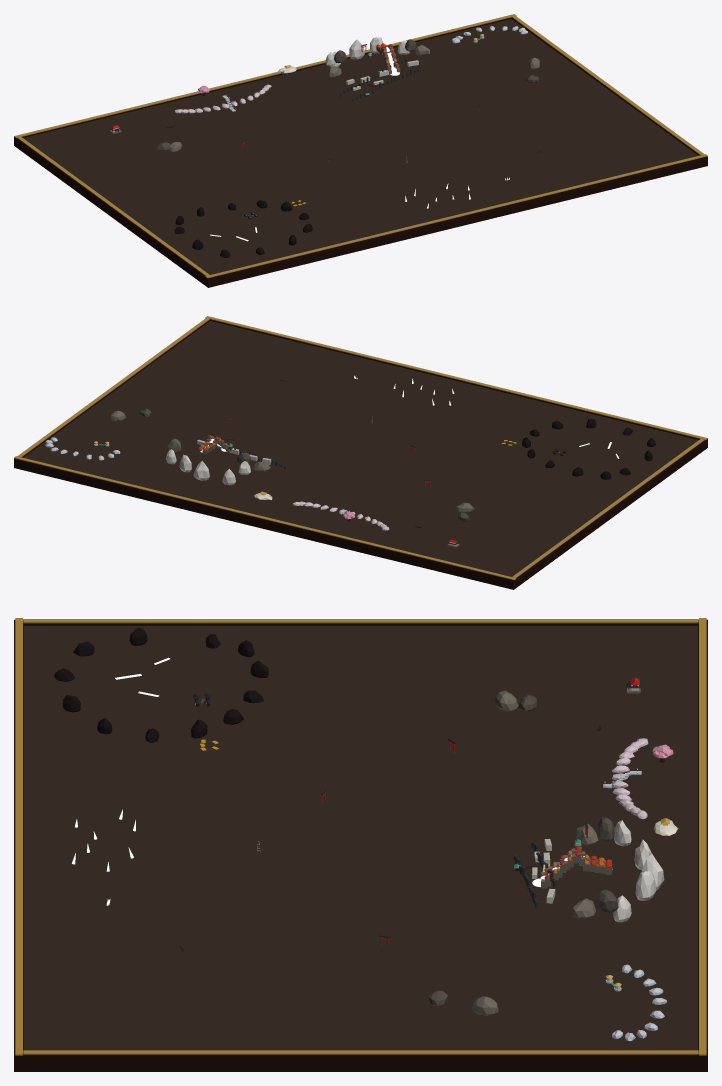
The model's file is gensokyo-diorama-dressings.glb.
3 views of the same model, one above another, from view 1: azimuth 30°, elevation 25°; view 2: azimuth 150°, elevation 25°; view 3: azimuth 270°, elevation 25° (orthographic). The views are drawn at different scales.
Visible parts, largest first — view 1: WorldDiorama_Opaque; view 2: WorldDiorama_Opaque; view 3: WorldDiorama_Opaque.
Part boxes in pixels (<box>): WorldDiorama_Opaque: <box>14,14,707,287</box>; WorldDiorama_Opaque: <box>14,316,707,589</box>; WorldDiorama_Opaque: <box>14,618,707,1071</box>.
Bounding box in the file's own units: 2452 × 227 × 1648.
